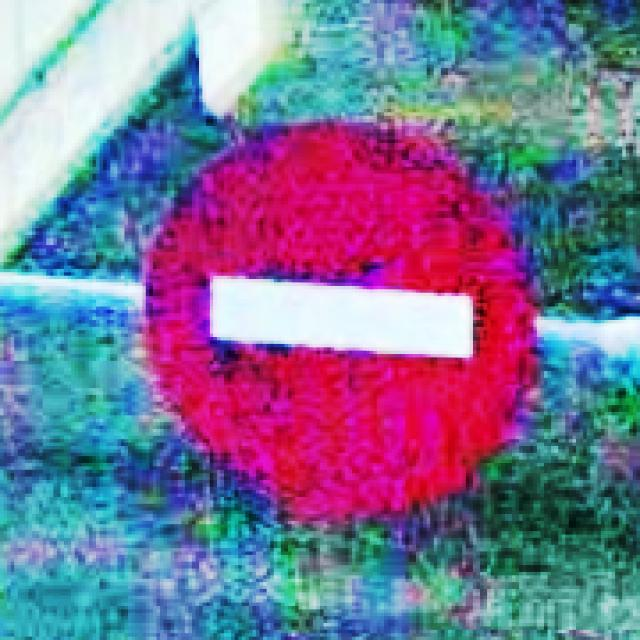noentry: (138, 116, 544, 532)
